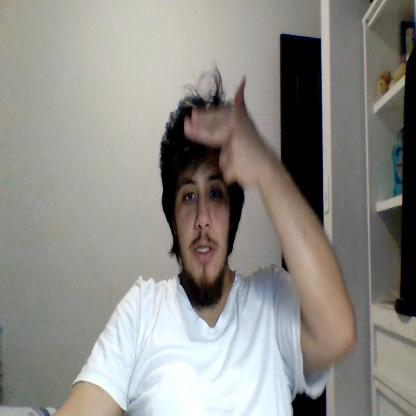H: (183, 73, 260, 186)
